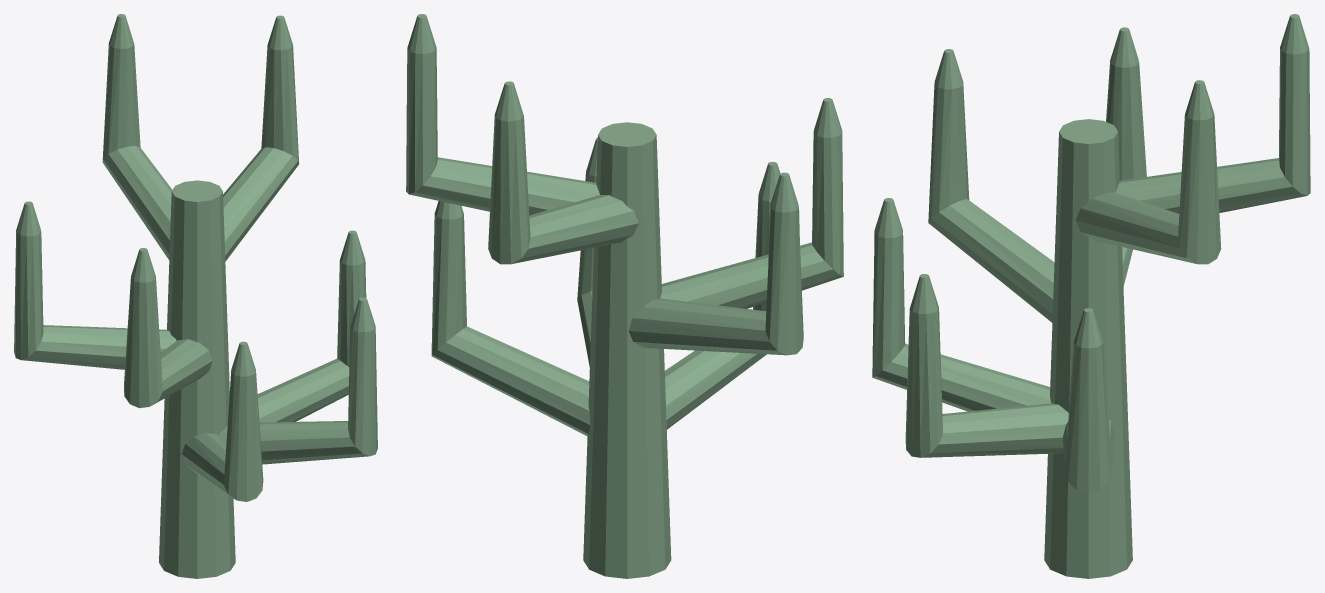
File: desert-canyons-and-oases-cholla-08cbcc9d__20998.glb
3 views of the same model, side by side, from view 1: azimuth 30°, elevation 25°; view 2: azimuth 150°, elevation 25°; view 3: azimuth 270°, elevation 25° (orthographic). The views are drawn at different scales.
Visible parts, largest first — view 1: cholla; view 2: cholla; view 3: cholla.
Part boxes in pixels (x1,y1,x2,y2): cholla: (14,14,377,578); cholla: (406,14,843,578); cholla: (872,14,1310,578).
Size of the model in its own units: 0.7482 by 1.03 by 0.7413.
